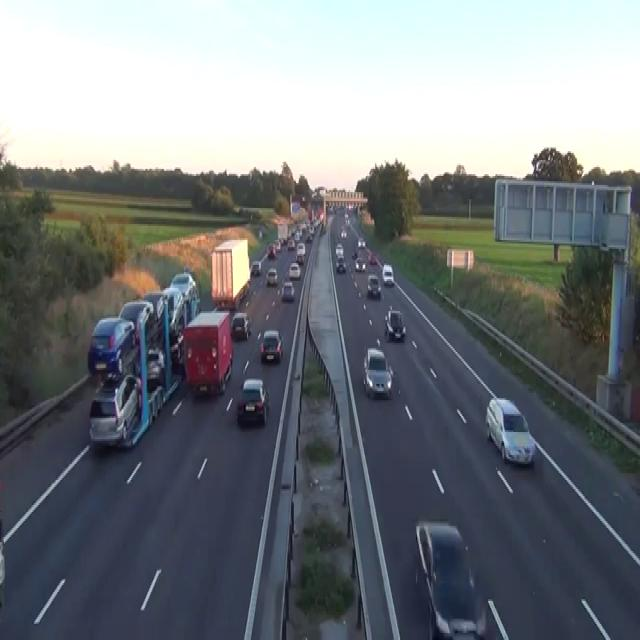Car: (414, 519, 487, 638), (89, 372, 142, 448), (485, 396, 536, 466), (87, 317, 135, 375), (236, 377, 269, 425), (118, 300, 153, 345), (362, 347, 392, 398), (140, 290, 165, 341), (146, 347, 165, 389), (259, 329, 282, 363), (169, 272, 196, 300), (384, 308, 406, 342), (147, 384, 164, 421), (230, 311, 251, 340), (170, 332, 184, 370), (0, 519, 5, 608), (367, 274, 381, 297), (382, 263, 394, 286), (183, 265, 196, 286), (281, 281, 294, 300), (288, 261, 300, 279), (239, 279, 249, 299), (266, 266, 277, 284), (354, 256, 366, 272), (296, 242, 305, 263), (335, 256, 346, 272), (251, 260, 261, 276), (335, 242, 344, 258), (267, 244, 275, 258), (273, 238, 281, 251), (183, 265, 193, 275), (319, 222, 326, 235), (369, 254, 377, 265), (287, 238, 295, 249), (357, 237, 365, 247), (344, 213, 350, 226), (308, 224, 314, 235), (233, 204, 240, 213), (305, 233, 312, 242), (351, 249, 357, 258), (340, 228, 346, 236), (300, 196, 306, 204), (280, 237, 285, 246), (258, 228, 262, 238), (344, 212, 348, 218)
Truck: (88, 270, 199, 450), (182, 309, 233, 396), (210, 237, 250, 310)
